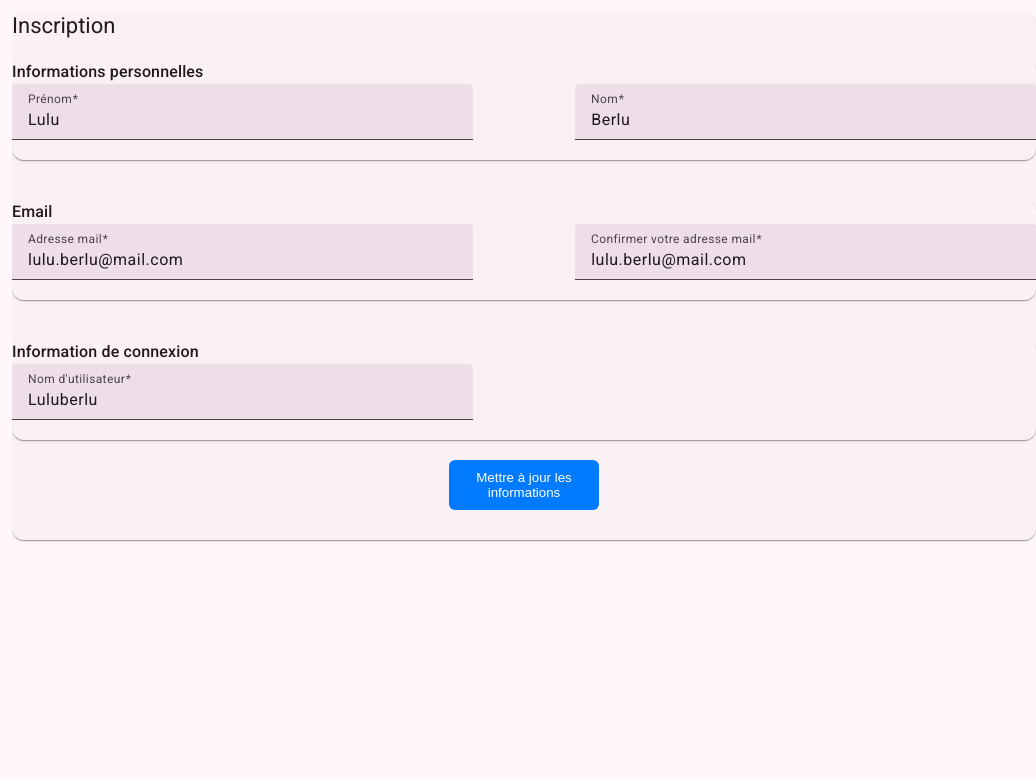
Sign-InComponent › Formulaire de mise à jour › l'adresse email ne doit pas déjà exister
Replace the text in the field labelled "Adresse mail" with "toto@tata.titi": (242, 260) [28,248,457,272]
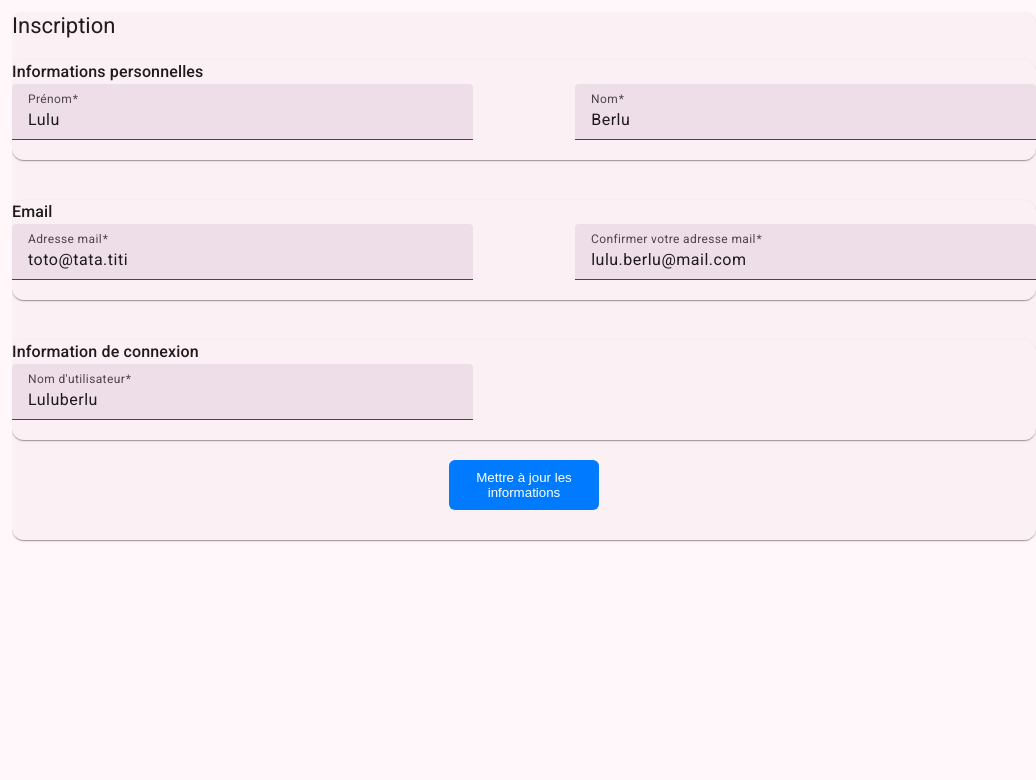
Leave the field labelled "Adresse mail", box [28,248,457,272]
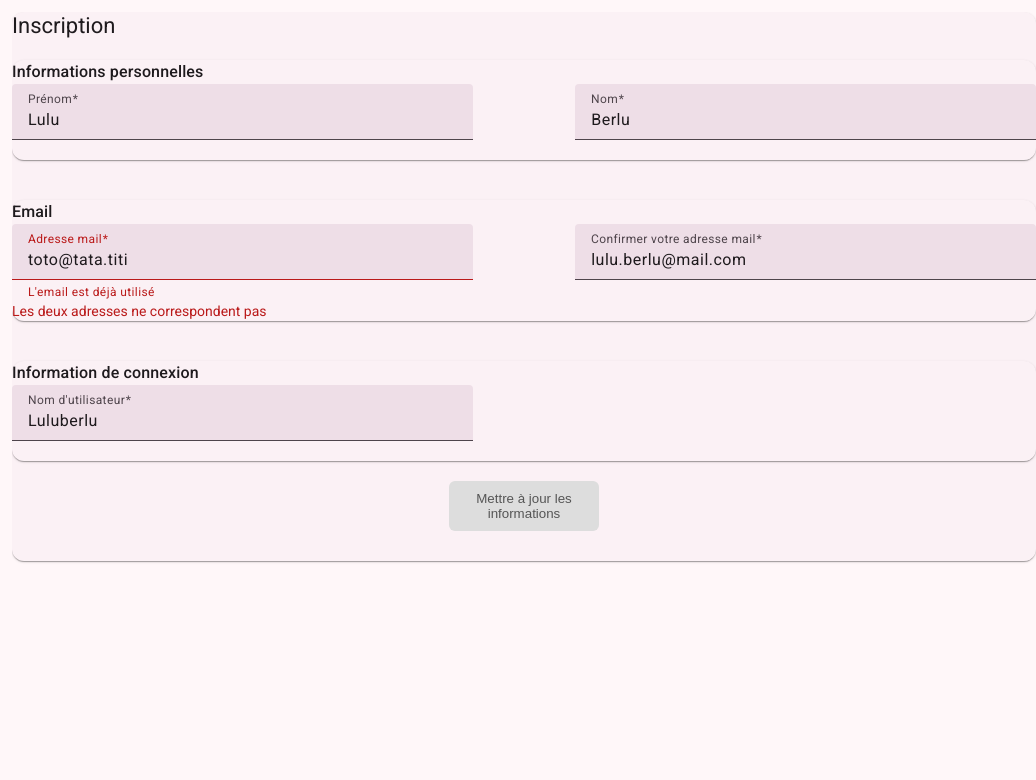
Check: the text "L'email est déjà utilisé" is shown, box [28,285,155,299]
